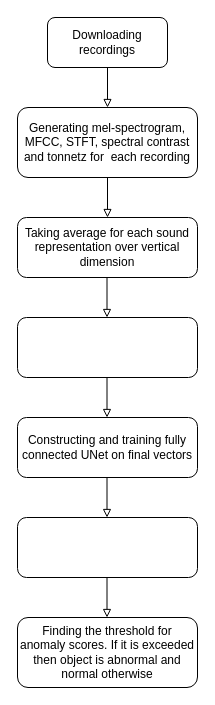
The diagram is 215 pixels wide and 705 high, and some of its shapes have lost their labels. The shapes that lost their labels are listed below. From the top down, each one's box as (x1, y1, x2, y2) in pixels, then its label:
(16, 316, 198, 378): Concatenating in obtained features in one vector
(16, 516, 198, 578): finding MSE between input and reconstruction, consider it as anomaly score
